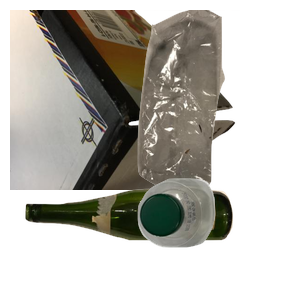cardboard: (10, 10, 238, 190)
glass: (23, 186, 249, 300)
plastic: (135, 176, 300, 300)
trash: (114, 10, 300, 190)
